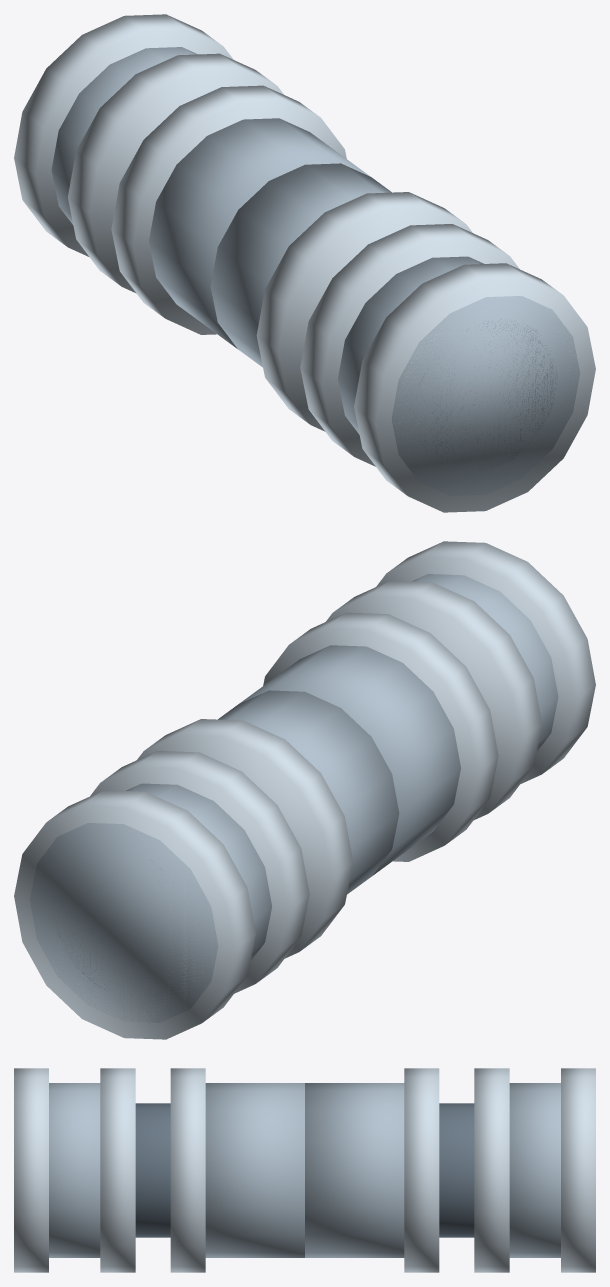
Rendered from pipe_straight.glb.
3 views of the same model, one above another, from view 1: azimuth 30°, elevation 25°; view 2: azimuth 150°, elevation 25°; view 3: azimuth 270°, elevation 25° (orthographic). The views are drawn at different scales.
Parts seen in each view (by area): view 1: Pipe_Collar.001, Pipe_Shell.001, Pipe_Water.001; view 2: Pipe_Collar.001, Pipe_Shell.001; view 3: Pipe_Shell.001, Pipe_Collar.001, Pipe_Water.001.
Boxes of the visible parts, <box> form: Pipe_Collar.001: <box>14,14,595,512</box>; Pipe_Shell.001: <box>51,47,580,495</box>; Pipe_Water.001: <box>419,319,557,470</box>; Pipe_Collar.001: <box>14,541,595,1039</box>; Pipe_Shell.001: <box>29,574,558,1022</box>; Pipe_Shell.001: <box>49,1083,560,1257</box>; Pipe_Collar.001: <box>14,1068,595,1272</box>; Pipe_Water.001: <box>135,1103,474,1237</box>.
Size of the model in its own units: 0.35 by 0.35 by 0.996.
